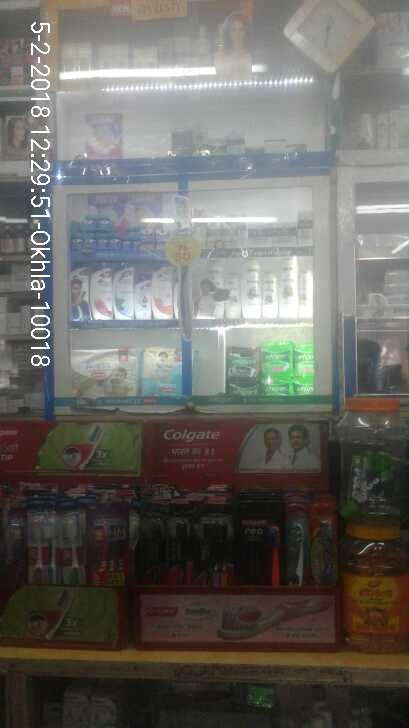vicks: (70, 213, 172, 256)
